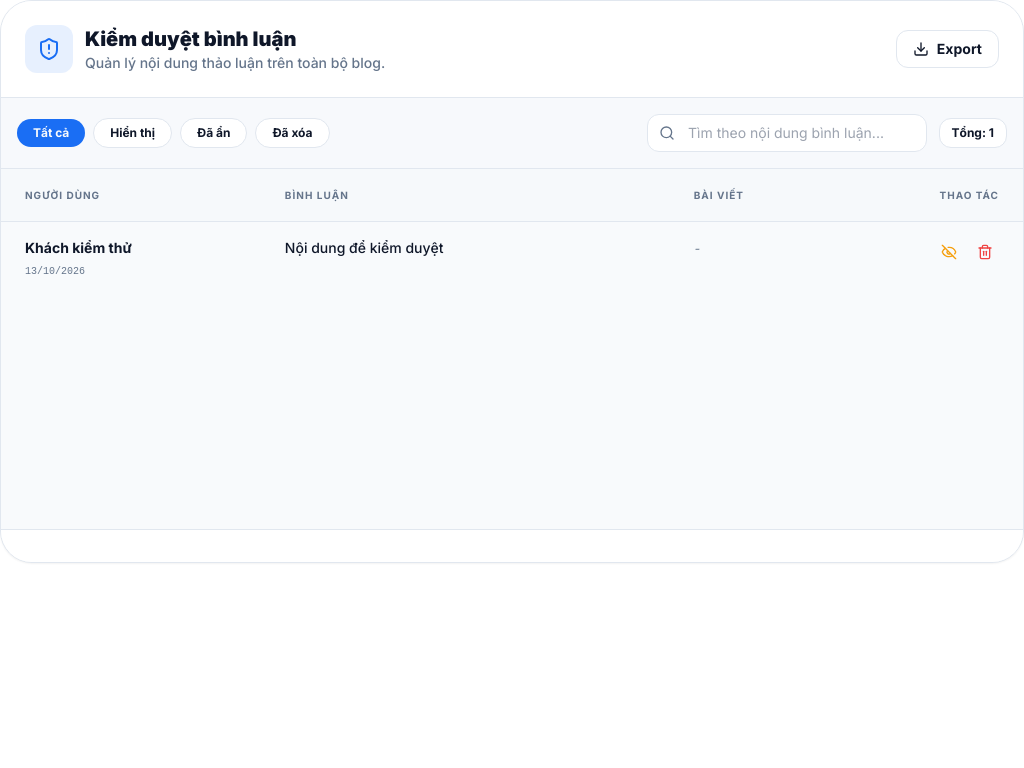
Test: comment deletion › blocks duplicate submission and Escape while deletion is pending
Click the button titled "Xóa".
click(985, 252)  # box x1=971 y1=238 x2=999 y2=266
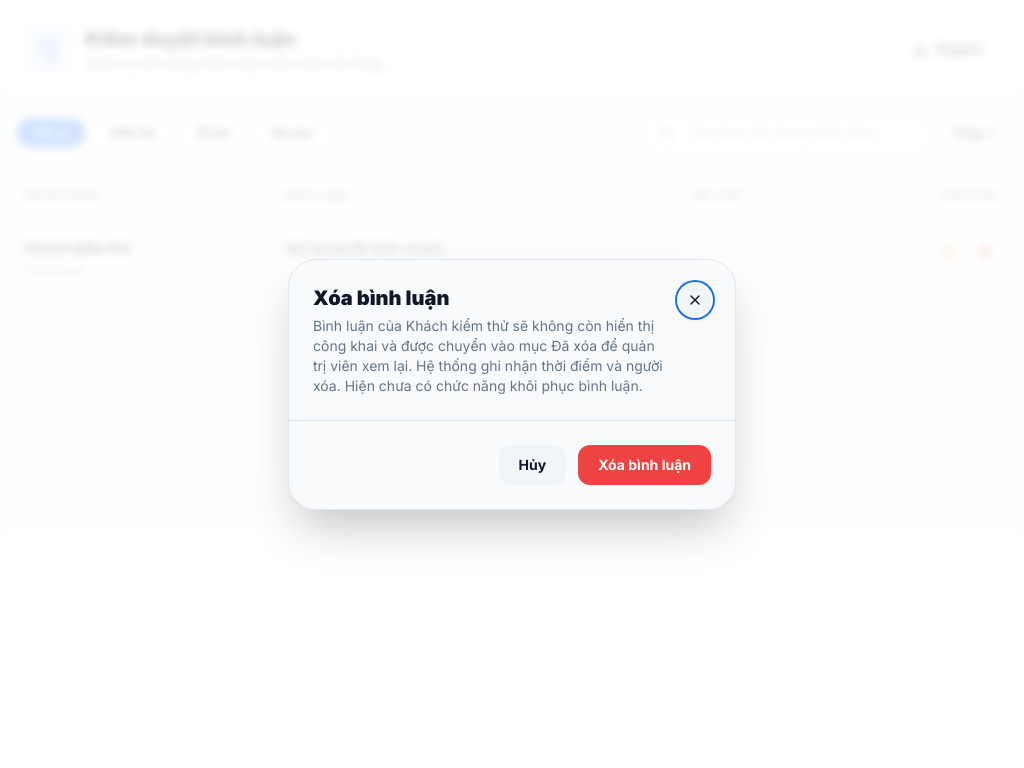
Click the button "Xóa bình luận".
click(645, 464)  # box x1=578 y1=444 x2=711 y2=484
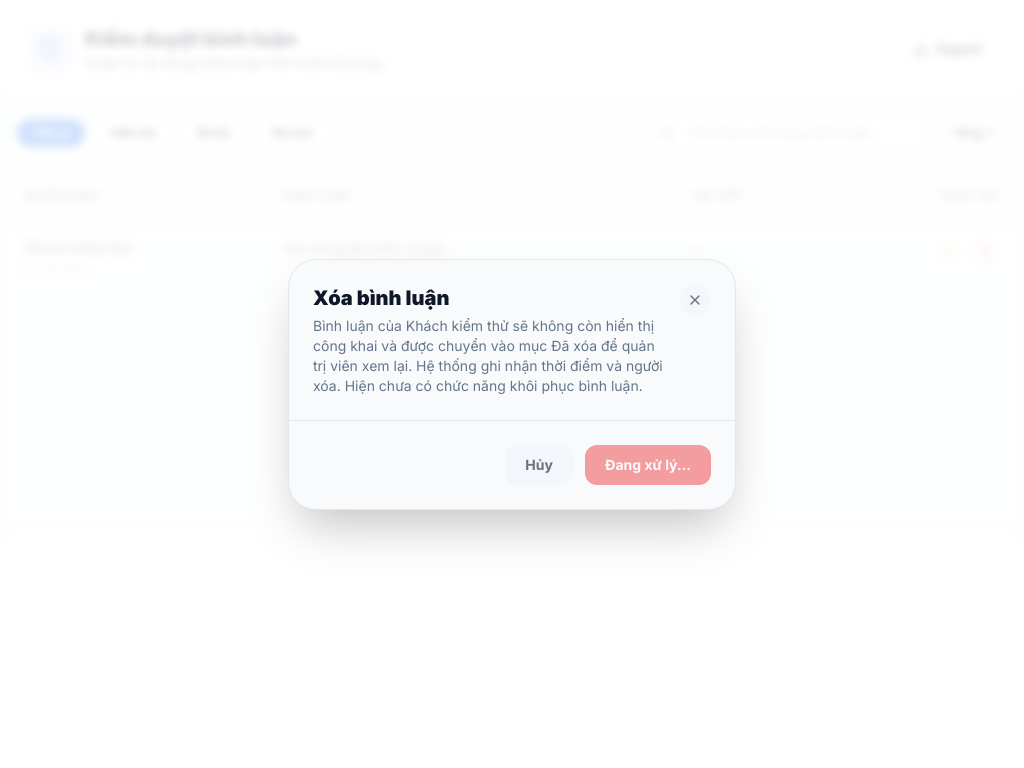
Press Escape
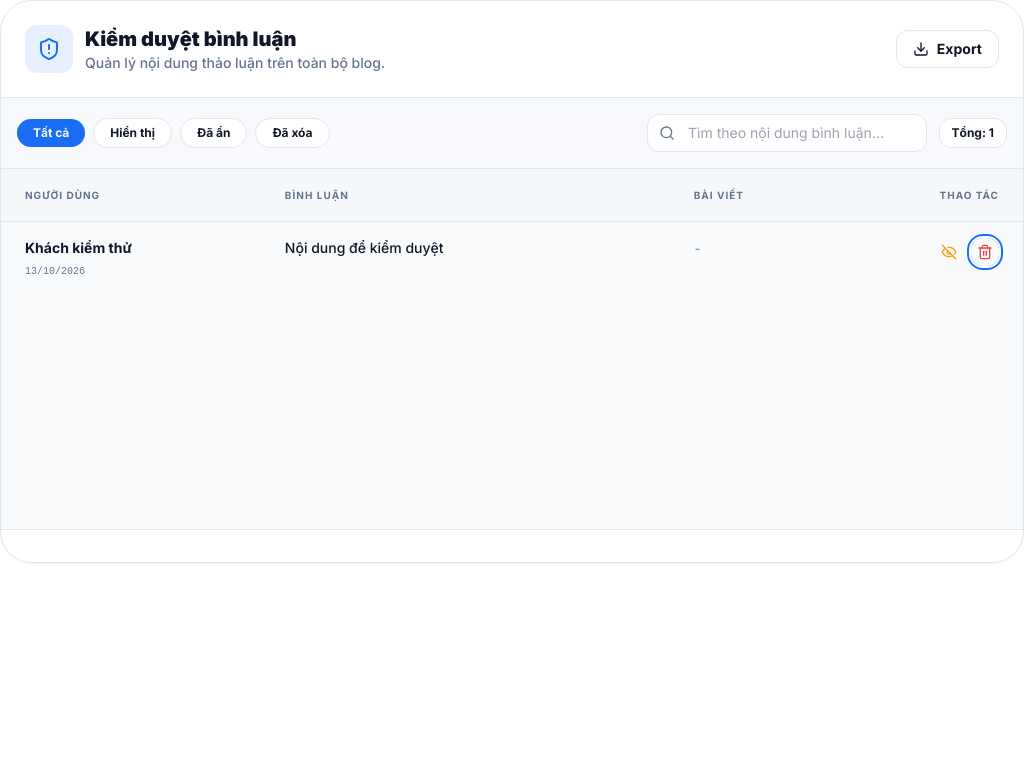
Result: the dialog is gone
